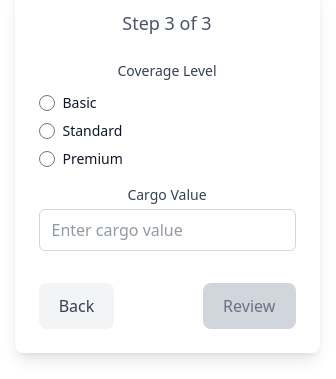
Test: Feature: Maritime Insurance Quote Request Wizard Step 3 Component › Scenario: Coverage level selection is required › should enable Review button when coverage level is selected
This screenshot has width=336, height=379.
In the field with test id "cargo-value": coordinates (167, 230) [38,209,296,251], type "1500000"
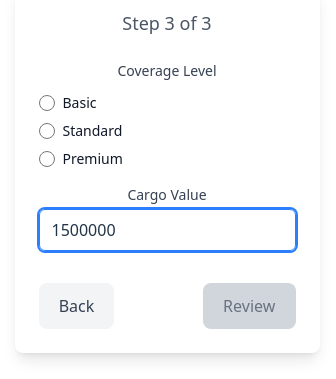
Click the radio button with test id "coverage-premium": coordinates (46, 159) [38,151,54,167]
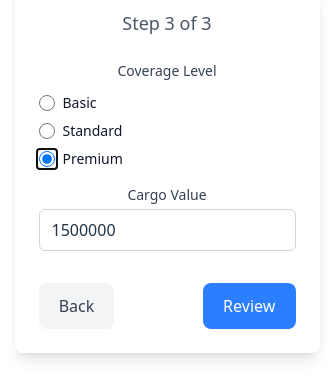
Result: the button with test id "review-button" is enabled at [203,283,296,329]
